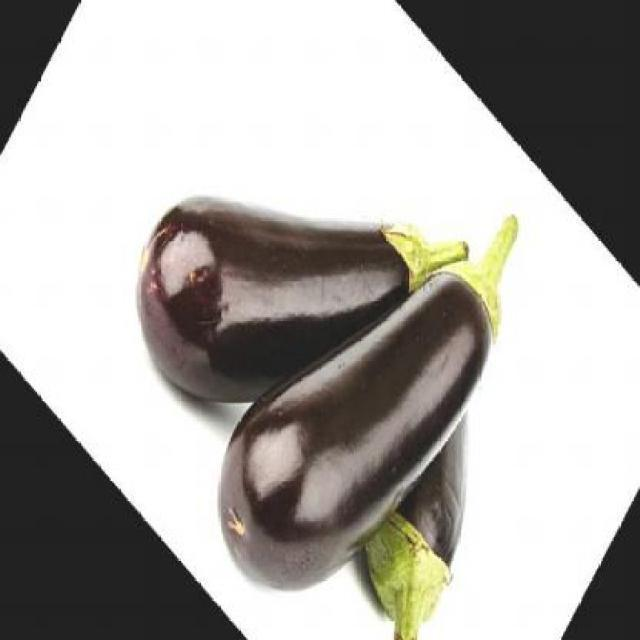eggplant: (106, 6, 474, 556), (189, 91, 548, 638), (340, 382, 517, 638)
